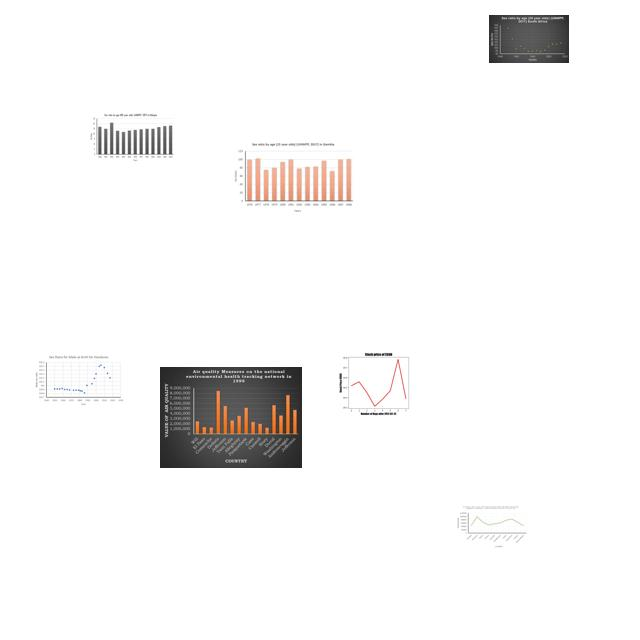Graph: (160, 367, 302, 468), (232, 141, 357, 214), (333, 349, 422, 416), (32, 353, 125, 408), (89, 113, 175, 163), (489, 15, 569, 63), (455, 505, 528, 548)
